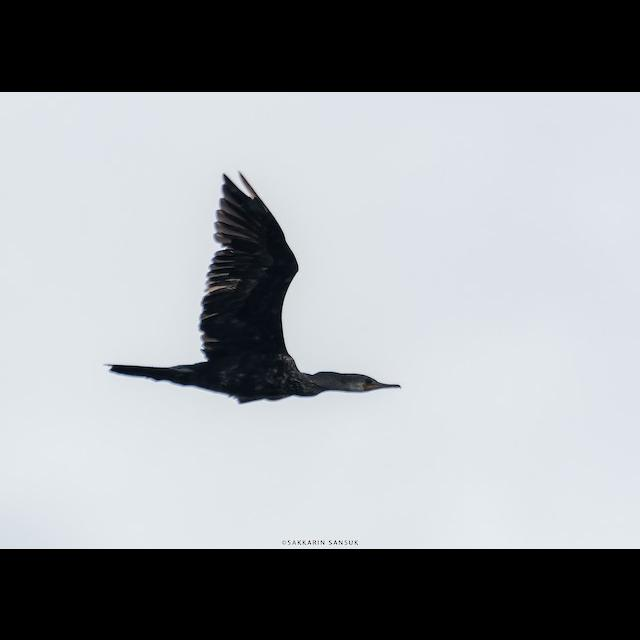cormorant: (106, 162, 410, 408)
